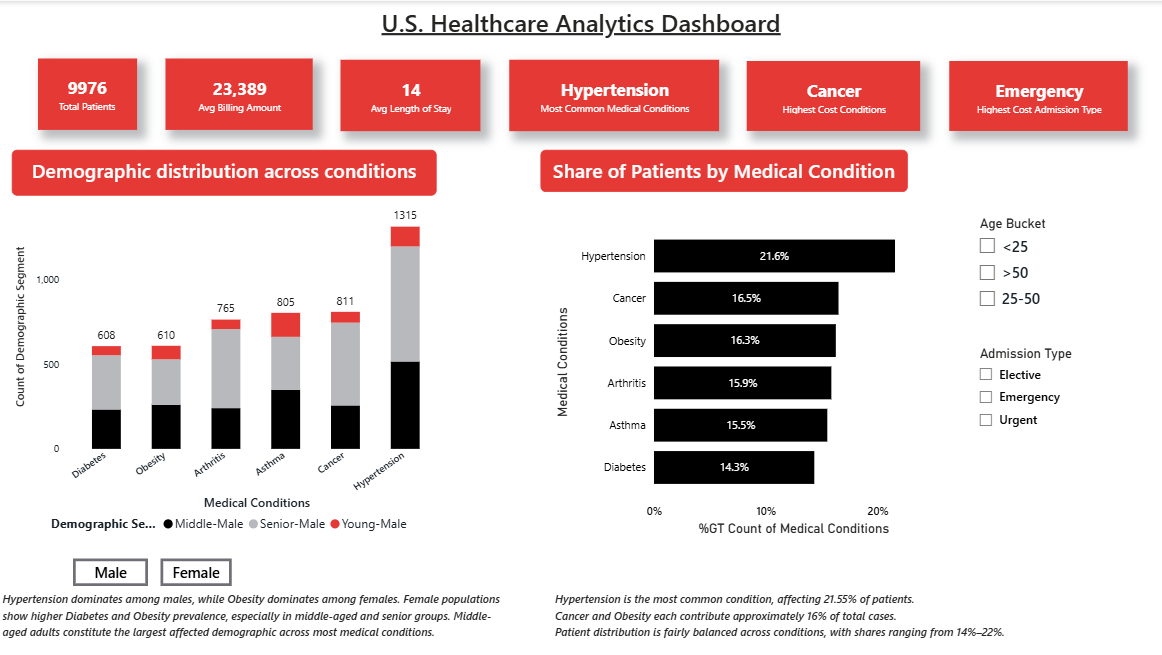

What the dashboard file says about the page in this screenshot:
{"tool":"powerbi","page":{"name":"Demographics","canvas":[1280,720],"ordinal":0},"visuals":[{"type":"cardVisual","fields":{"Data":["Sheet2.Total_Patients"]},"box":[43.9,63.1,108.4,78.2],"z":0},{"type":"cardVisual","fields":{"Data":["Sheet2.Avg Billing Amount"]},"box":[183.3,63.1,161.9,78.2],"z":1000},{"type":"cardVisual","fields":{"Data":["Sheet2.Avg Length of Stay"]},"box":[376.3,64.5,153.7,78.2],"z":2000},{"type":"textbox","box":[412.9,0,454.2,54.9],"z":3000},{"type":"cardVisual","fields":{"Data":["Min(Sheet2.Medical Conditions)"]},"box":[561,64.5,230.5,78.2],"z":4000},{"type":"cardVisual","fields":{"Data":["Min(Sheet2.Medical Conditions)"]},"box":[822.5,65.9,190.7,76.8],"z":5000},{"type":"cardVisual","fields":{"Data":["Min(Sheet2.Admission Type)"]},"box":[1044.3,65.9,196.2,76.8],"z":6000},{"type":"columnChart","fields":{"Category":["Sheet2.Medical Conditions"],"Y":["CountNonNull(Sheet2.Demographic Segment)"],"Series":["Sheet2.Demographic Segment"]},"box":[15.1,209.9,481.6,382.8],"z":7000},{"type":"clusteredBarChart","fields":{"Category":["Sheet2.Medical Conditions"],"Y":["Divide(CountNonNull(Sheet2.Medical Conditions), ScopedEval(CountNonNull(Sheet2.Medical Conditions), []))"]},"box":[606.5,230.5,437.7,362.3],"z":9000},{"type":"textbox","box":[0,642.2,568.1,78.2],"z":10000},{"type":"actionButton","box":[82.3,612,82.3,30.2],"z":11000},{"type":"actionButton","box":[178.4,612,78.2,30.2],"z":12000},{"type":"textbox","box":[15.1,163.3,466.6,50.8],"z":13000},{"type":"textbox","box":[595.5,163.3,403.4,46.7],"z":14000},{"type":"slicer","fields":{"Values":["Sheet2.Age Bucket"]},"box":[1064.8,230.5,155.1,129],"z":15000},{"type":"slicer","fields":{"Values":["Sheet2.Admission Type"]},"box":[1064.8,373.2,155.1,150.9],"z":16000},{"type":"textbox","box":[606.5,642.2,568.1,78.2],"z":17000}]}

Visuals, with their boxes in screenshot pixels (x1, y1, x2, y2), scaled from the page's 1280x720 canvas onto the 1162x655 screenshot:
cardVisual - Sheet2.Total_Patients: (x1=40, y1=57, x2=138, y2=129)
cardVisual - Sheet2.Avg Billing Amount: (x1=166, y1=57, x2=313, y2=129)
cardVisual - Sheet2.Avg Length of Stay: (x1=342, y1=59, x2=481, y2=130)
textbox: (x1=375, y1=0, x2=787, y2=50)
cardVisual - Min(Sheet2.Medical Conditions): (x1=509, y1=59, x2=719, y2=130)
cardVisual - Min(Sheet2.Medical Conditions): (x1=747, y1=60, x2=920, y2=130)
cardVisual - Min(Sheet2.Admission Type): (x1=948, y1=60, x2=1126, y2=130)
columnChart - Sheet2.Medical Conditions x CountNonNull(Sheet2.Demographic Segment): (x1=14, y1=191, x2=451, y2=539)
clusteredBarChart - Sheet2.Medical Conditions x Divide(CountNonNull(Sheet2.Medical Conditions), ScopedEval(CountNonNull(Sheet2.Medical Conditions), [])): (x1=551, y1=210, x2=948, y2=539)
textbox: (x1=0, y1=584, x2=516, y2=654)
actionButton: (x1=75, y1=557, x2=149, y2=584)
actionButton: (x1=162, y1=557, x2=233, y2=584)
textbox: (x1=14, y1=149, x2=437, y2=195)
textbox: (x1=541, y1=149, x2=907, y2=191)
slicer - Sheet2.Age Bucket: (x1=967, y1=210, x2=1107, y2=327)
slicer - Sheet2.Admission Type: (x1=967, y1=340, x2=1107, y2=477)
textbox: (x1=551, y1=584, x2=1066, y2=654)
